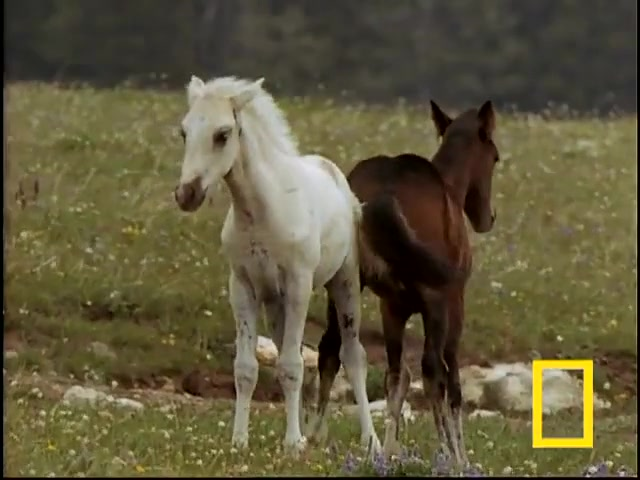horse: (177, 74, 385, 464)
